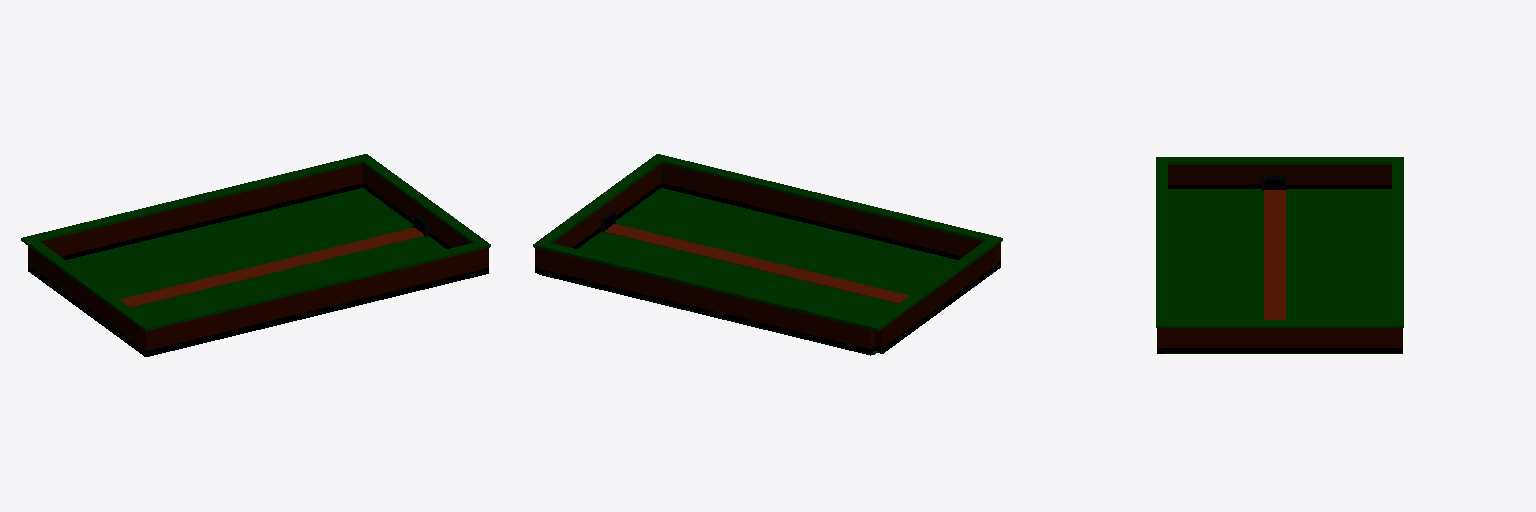
Rendered from map.obj.
3 renders of one model, left to right at view 1: azimuth 30°, elevation 25°; view 2: azimuth 150°, elevation 25°; view 3: azimuth 270°, elevation 25°, orthographic.
Parts seen in each view (by area): view 1: map; view 2: map; view 3: map.
Part boxes in pixels (x1,y1,x2,y2): map: (21, 154, 490, 356); map: (533, 154, 1002, 355); map: (1156, 157, 1403, 353).
Size of the model in its own units: 445 by 36.37 by 277.